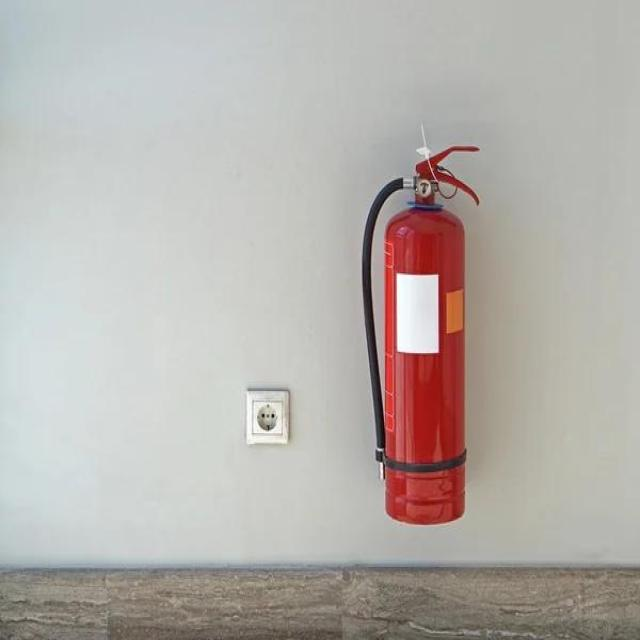fire_extinguisher: (356, 135, 486, 530)
